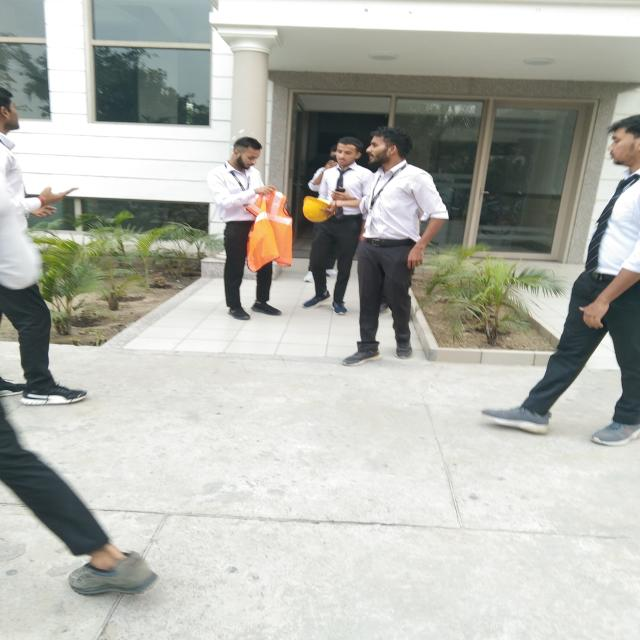unsafe: (506, 108, 638, 448), (360, 130, 454, 363), (208, 132, 283, 314), (300, 134, 357, 312)
